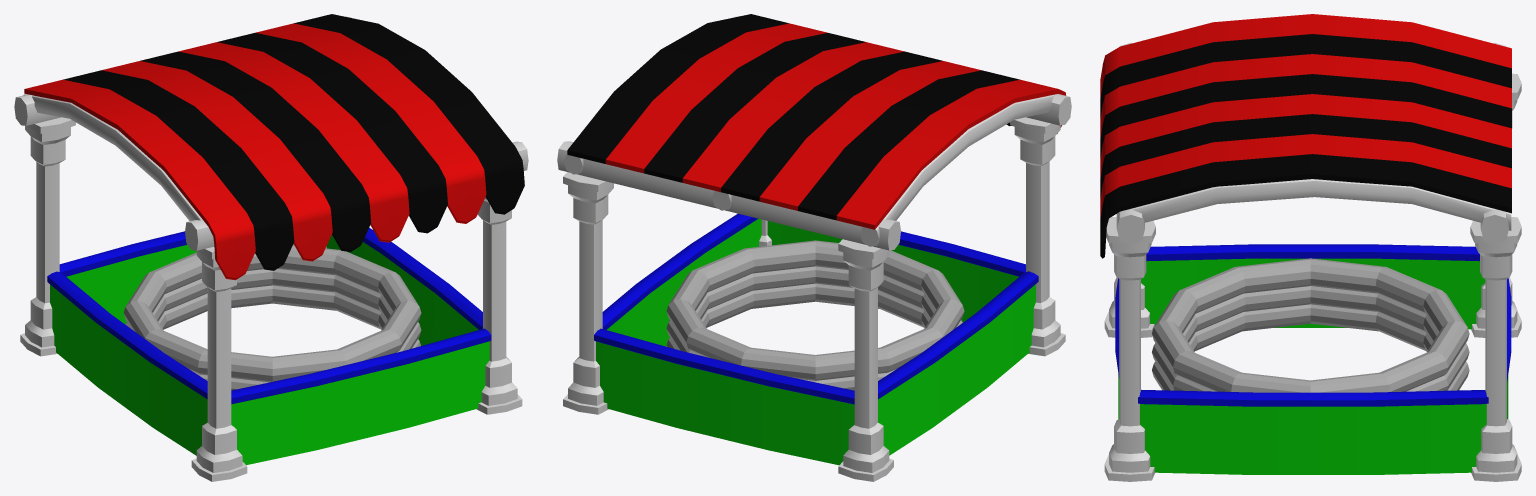
The model's file is fishing ting.fbx.
3 views of the same model, side by side, from view 1: azimuth 30°, elevation 25°; view 2: azimuth 150°, elevation 25°; view 3: azimuth 270°, elevation 25° (orthographic). The views are drawn at different scales.
Visible parts, largest first — view 1: pCube6, pCube40 (×2), pCube54 (×2), pTorus3, pCube45______, pCube44, pCube3, pTorus2, pTorus1, pCube16, pCube47, pCube18; view 2: pCube6, pCube54 (×2), pTorus3, pCube40 (×2), pCube44, pCube43, pCube45______, pCube18, pTorus2, pTorus1, pCube16, pCube47; view 3: pCube6, pCube40 (×2), pTorus3, pCube54 (×2), pCube43, pCube3, pCube50, pTorus2, pTorus1, pCube44, pCube47, pCube18 (+1 smaller).
Part boxes in pixels (left/top/right/bottom): pCube6: left=24, top=14, right=524, bottom=280; pCube40 (×2): left=231, top=227, right=491, bottom=465; pCube54 (×2): left=47, top=231, right=293, bottom=455; pTorus3: left=123, top=244, right=421, bottom=382; pCube45______: left=191, top=246, right=247, bottom=481; pCube44: left=20, top=117, right=75, bottom=356; pCube3: left=476, top=197, right=522, bottom=414; pTorus2: left=125, top=268, right=421, bottom=390; pTorus1: left=158, top=285, right=420, bottom=348; pCube16: left=23, top=94, right=207, bottom=225; pCube47: left=185, top=141, right=528, bottom=250; pCube18: left=14, top=16, right=351, bottom=125; pCube6: left=567, top=14, right=1066, bottom=229; pCube54 (×2): left=594, top=271, right=1038, bottom=465; pTorus3: left=666, top=240, right=964, bottom=380; pCube40 (×2): left=602, top=213, right=1025, bottom=346; pCube44: left=838, top=239, right=893, bottom=481; pCube43: left=563, top=172, right=613, bottom=414; pCube45______: left=1010, top=117, right=1065, bottom=356; pCube18: left=557, top=141, right=900, bottom=250; pTorus2: left=666, top=266, right=962, bottom=390; pTorus1: left=666, top=283, right=929, bottom=349; pCube16: left=860, top=94, right=1057, bottom=246; pCube47: left=734, top=16, right=1071, bottom=125; pCube6: left=1100, top=14, right=1511, bottom=258; pCube40 (×2): left=1115, top=278, right=1488, bottom=474; pTorus3: left=1152, top=258, right=1469, bottom=392; pCube54 (×2): left=1141, top=244, right=1511, bottom=419; pCube43: left=1470, top=217, right=1521, bottom=481; pCube3: left=1104, top=217, right=1155, bottom=481; pCube50: left=1122, top=179, right=1511, bottom=230; pTorus2: left=1152, top=286, right=1469, bottom=391; pTorus1: left=1152, top=304, right=1469, bottom=390; pCube44: left=1471, top=73, right=1521, bottom=337; pCube47: left=1116, top=43, right=1144, bottom=243; pCube18: left=1480, top=43, right=1508, bottom=243.
Size of the model in its own units: 10.64 by 8.82 by 11.02.
